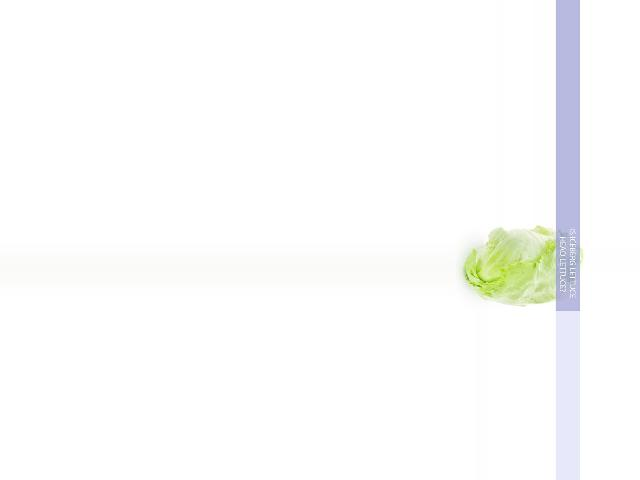lettuce: (458, 225, 583, 303)
